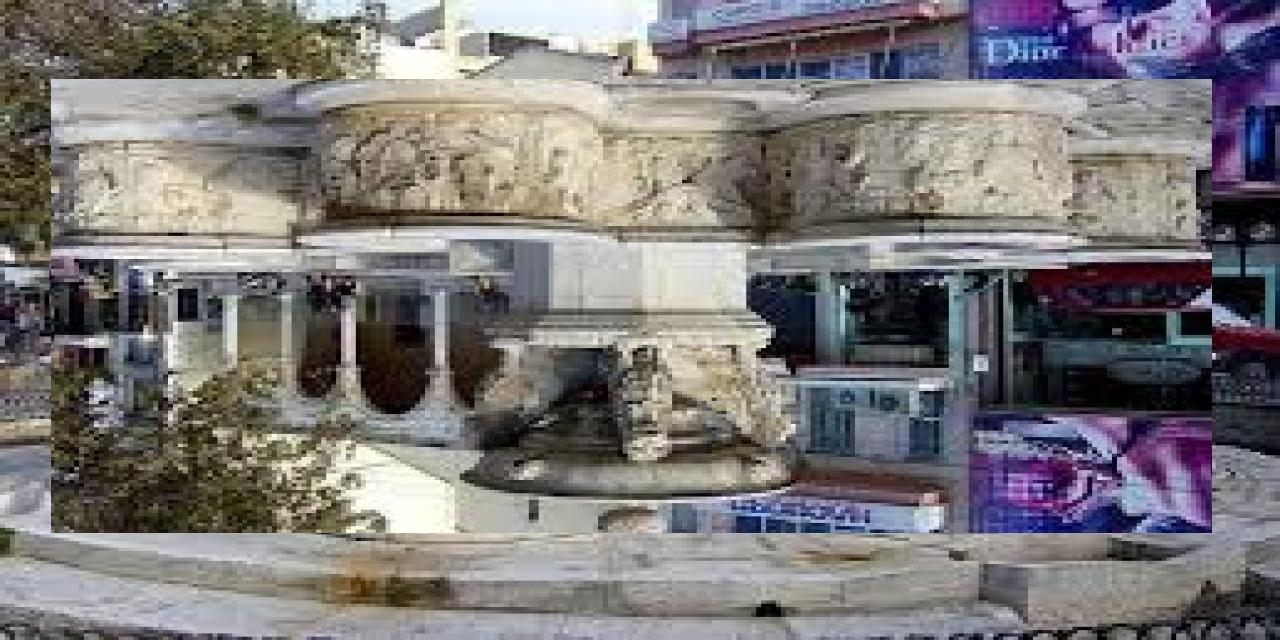Liontaria: (52, 80, 1213, 534)
